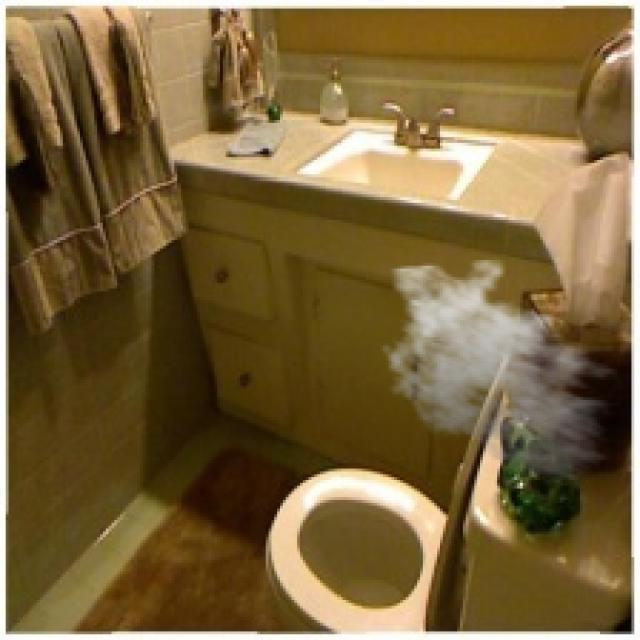Smoke: (377, 257, 629, 483)
